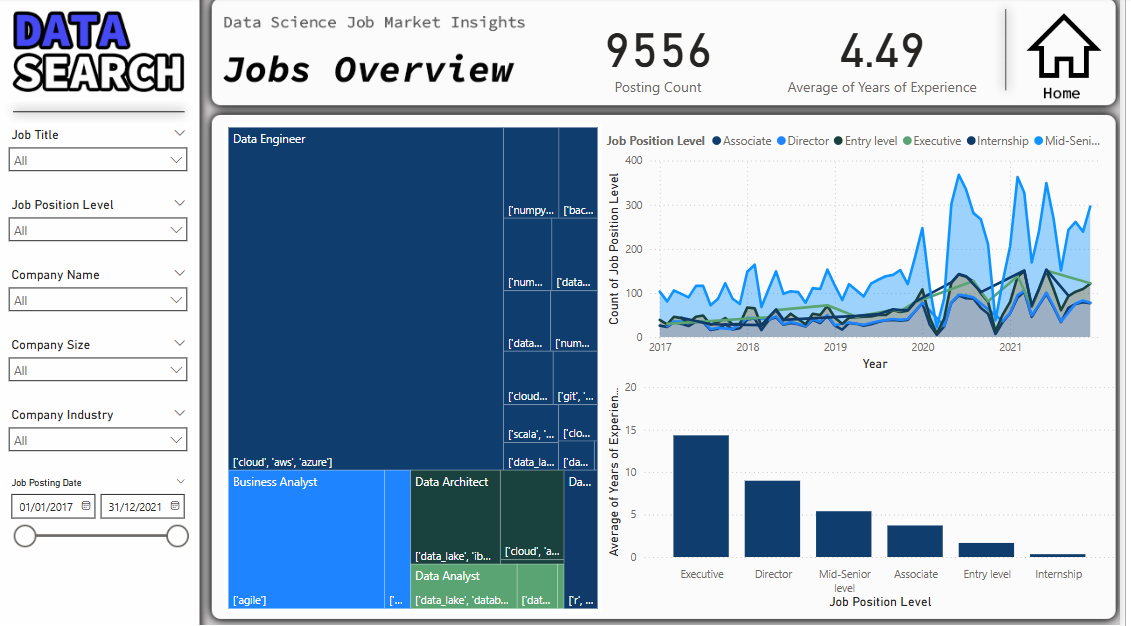

The page's visual inventory and layout, read from the dashboard file:
{"tool":"powerbi","page":{"name":"Jobs","canvas":[1280,720],"ordinal":1},"visuals":[{"type":"columnChart","fields":{"Category":["job_postings.Job Position Level"],"Y":["Avg(job_postings.Years of Experience)"]},"box":[688,432,592,272],"z":0},{"type":"stackedAreaChart","title":"Job Position Level","fields":{"Category":["job_postings.Job Posting Date.Variation.Date Hierarchy.Year","job_postings.Job Posting Date.Variation.Date Hierarchy.Quarter","job_postings.Job Posting Date.Variation.Date Hierarchy.Month","job_postings.Job Posting Date.Variation.Date Hierarchy.Day"],"Y":["CountNonNull(job_postings.Job Position Level)"],"Series":["job_postings.Job Position Level"]},"box":[688,144,576,288],"z":1000},{"type":"treemap","fields":{"Group":["job_postings.Job Title"],"Values":["CountNonNull(job_postings.Job Title)"],"Details":["Job Postings.Job Skills"]},"box":[256,144,432,560],"z":1001},{"type":"slicer","fields":{"Values":["Job Postings.Job Title"]},"box":[0,144,224,80],"z":1002},{"type":"slicer","fields":{"Values":["Job Postings.Job Position Level"]},"box":[0,224,224,80],"z":1003},{"type":"slicer","fields":{"Values":["Job Postings.Company Name"]},"box":[0,304,224,80],"z":1004},{"type":"slicer","fields":{"Values":["Job Postings.Company Size"]},"box":[0,384,224,80],"z":1005},{"type":"slicer","fields":{"Values":["Job Postings.Company Industry"]},"box":[0,464,224,80],"z":1006},{"type":"slicer","fields":{"Values":["Job Postings.Job Posting Date"]},"box":[0,544,224,112],"z":1007},{"type":"card","fields":{"Values":["_Measures.Posting Count"]},"box":[624,0,256,128],"z":1008},{"type":"card","fields":{"Values":["Avg(Job Postings.Years of Experience)"]},"box":[880,0,256,128],"z":1009},{"type":"image","box":[1168,0,96,112],"z":1010}]}

Visuals, with their boxes on the page's 1280x720 design canvas (x1, y1, x2, y2). These are canvas units, not pixel positions in the 1131x626 screenshot, which may show the page scaled, cropped or inside an application window:
columnChart - job_postings.Job Position Level x Avg(job_postings.Years of Experience): x1=688, y1=432, x2=1280, y2=704
"Job Position Level" stackedAreaChart: x1=688, y1=144, x2=1264, y2=432
treemap - job_postings.Job Title x CountNonNull(job_postings.Job Title): x1=256, y1=144, x2=688, y2=704
slicer - Job Postings.Job Title: x1=0, y1=144, x2=224, y2=224
slicer - Job Postings.Job Position Level: x1=0, y1=224, x2=224, y2=304
slicer - Job Postings.Company Name: x1=0, y1=304, x2=224, y2=384
slicer - Job Postings.Company Size: x1=0, y1=384, x2=224, y2=464
slicer - Job Postings.Company Industry: x1=0, y1=464, x2=224, y2=544
slicer - Job Postings.Job Posting Date: x1=0, y1=544, x2=224, y2=656
card - _Measures.Posting Count: x1=624, y1=0, x2=880, y2=128
card - Avg(Job Postings.Years of Experience): x1=880, y1=0, x2=1136, y2=128
image: x1=1168, y1=0, x2=1264, y2=112
